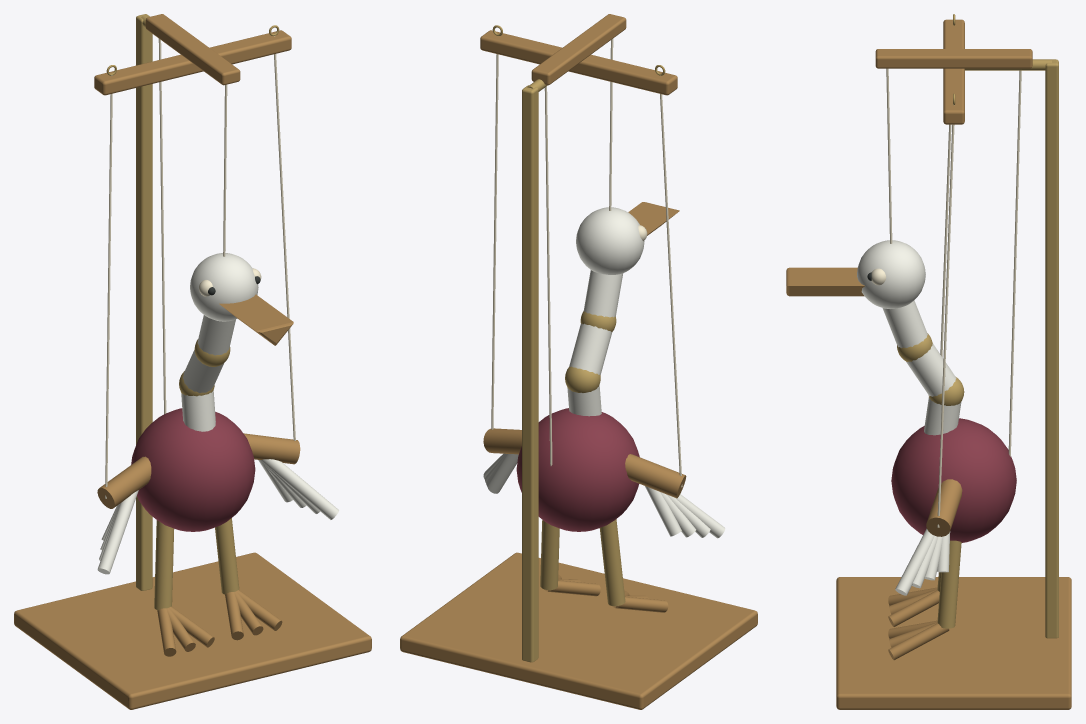
Rendered from abandoned-puppet-theatre-and-prop-vault-long-neck-bird-b334a180__31082.glb.
3 views of the same model, side by side, from view 1: azimuth 30°, elevation 25°; view 2: azimuth 150°, elevation 25°; view 3: azimuth 270°, elevation 25° (orthographic).
Visible parts, largest first — view 1: long-neck-bird-marionette; view 2: long-neck-bird-marionette; view 3: long-neck-bird-marionette.
Part boxes in pixels (x1,y1,x2,y2): long-neck-bird-marionette: (14,14,371,709); long-neck-bird-marionette: (400,14,757,709); long-neck-bird-marionette: (786,14,1071,709).
Size of the model in its own units: 0.72 by 1.68 by 0.728.
